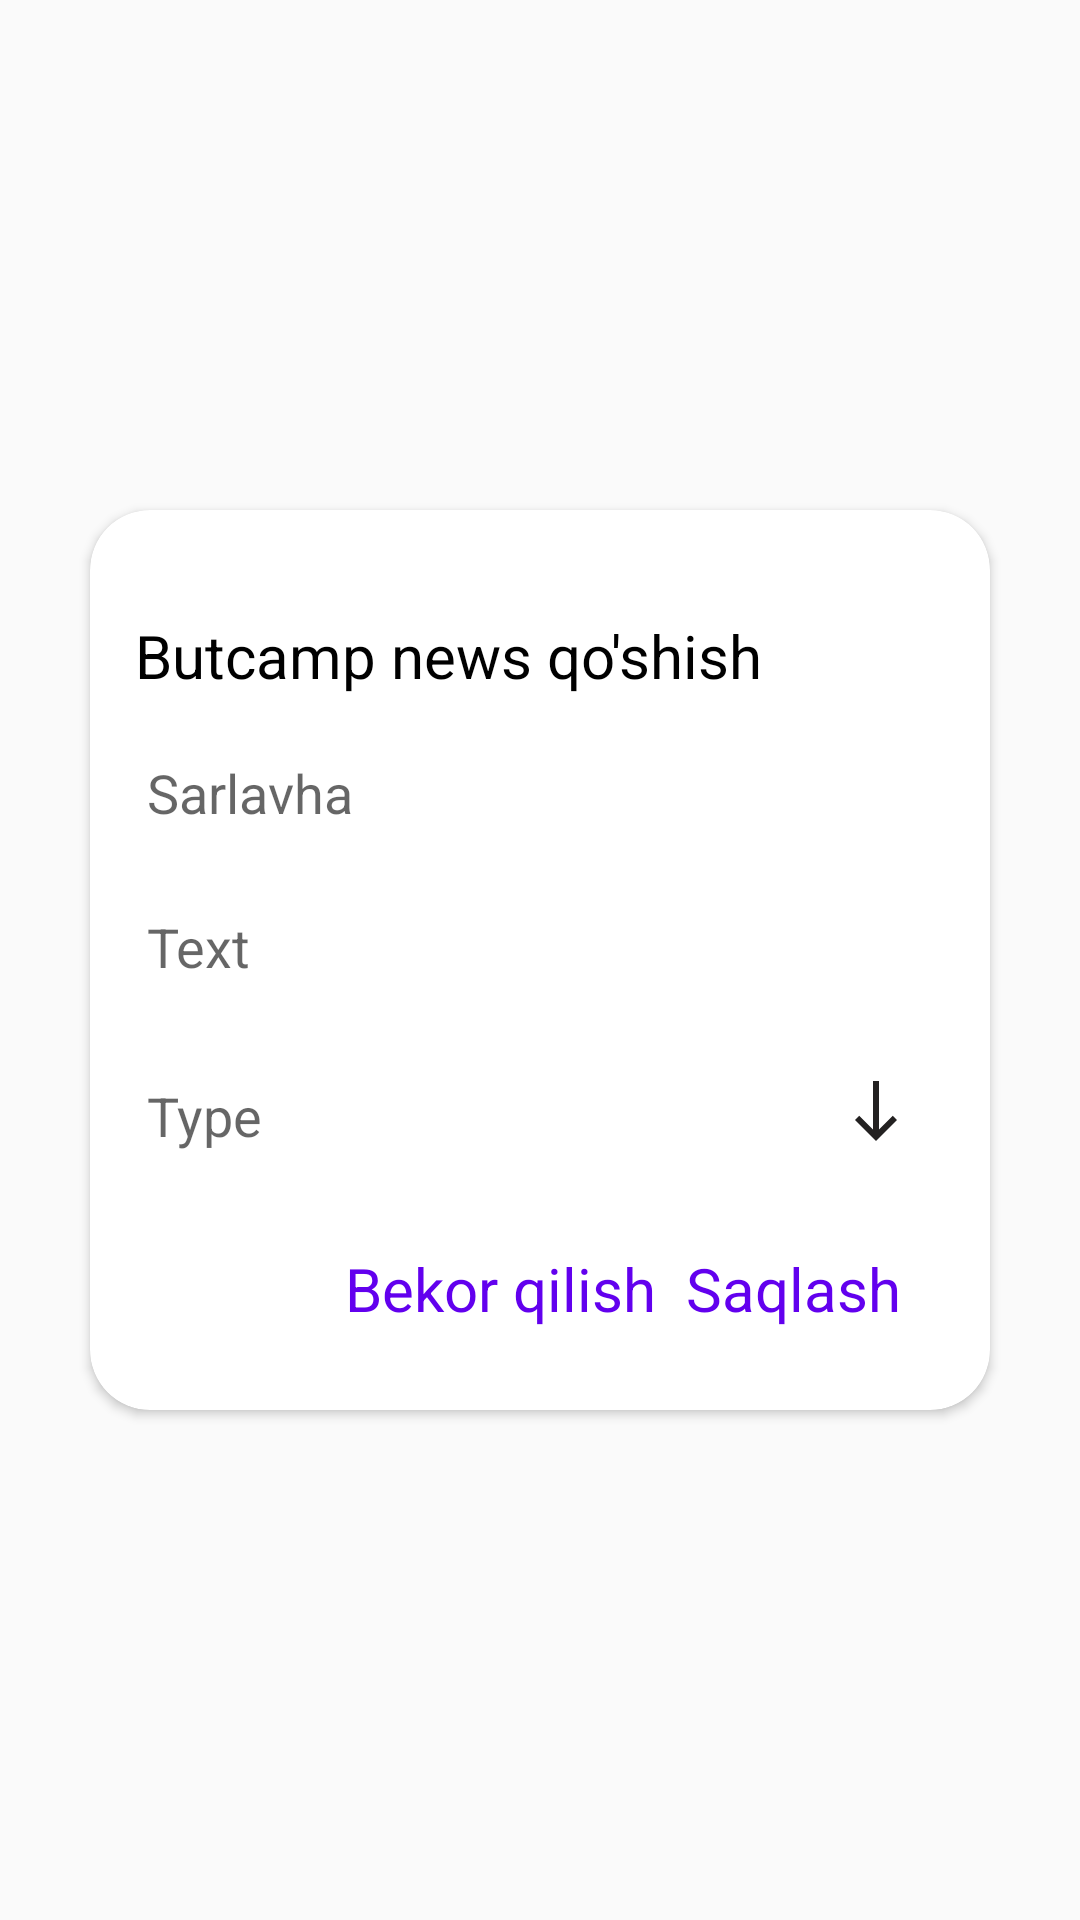

Where icons sit on this 1080w x 1920h app screen, as rect(x1, y1, x2, y2):
south: rect(855, 1081, 897, 1141)
